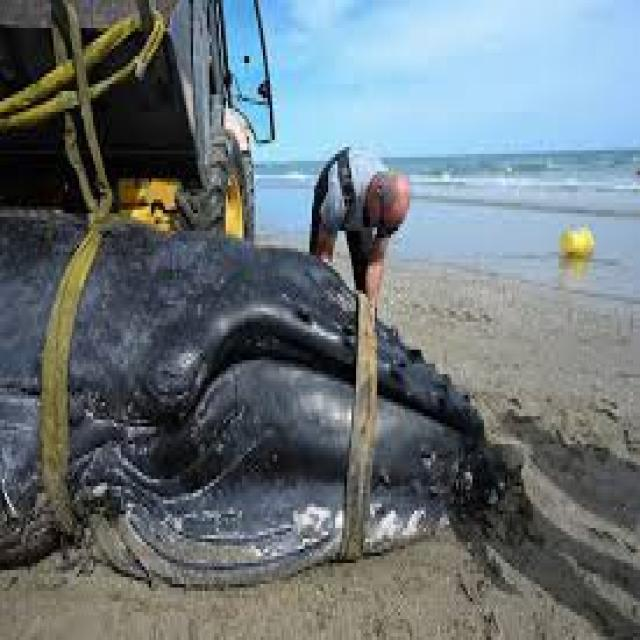whale: (58, 224, 354, 581), (363, 322, 507, 549), (0, 217, 81, 563)
